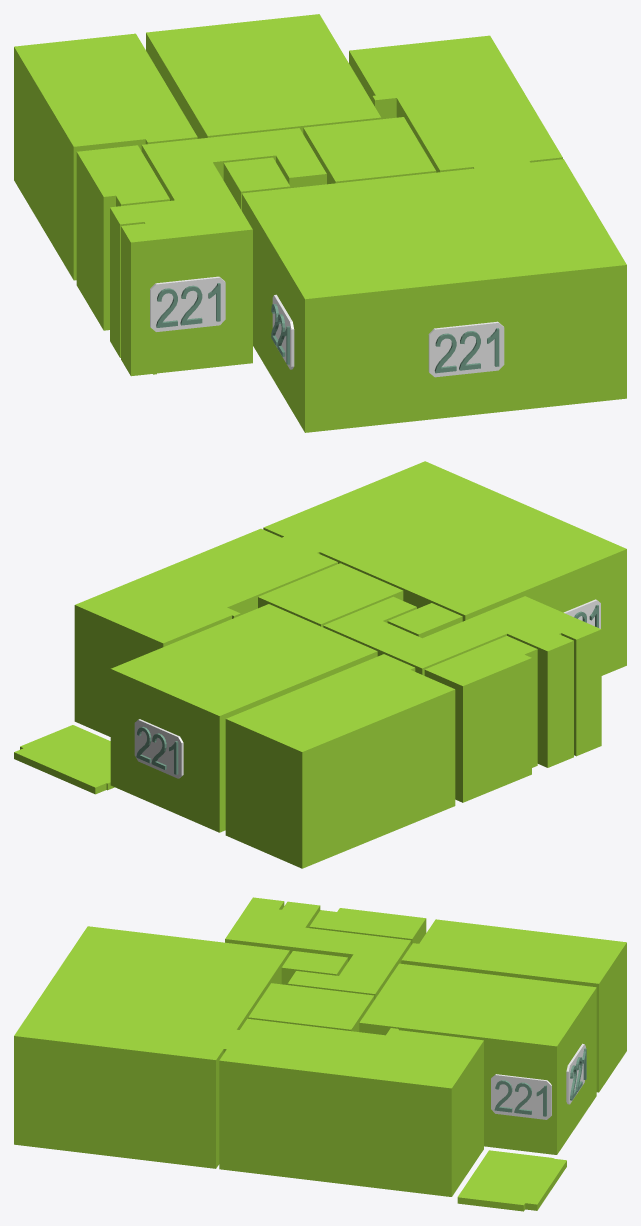
3 renders of one model, top to bottom at view 1: azimuth 30°, elevation 25°; view 2: azimuth 150°, elevation 25°; view 3: azimuth 270°, elevation 25°, orthographic. The views are drawn at different scales.
Visible parts, largest first — view 1: g_7, g_3, g_1, g_0, g_6, g_2, g_4, g_12, g_24, g_5, g_16; view 2: g_1, g_7, g_0, g_6, g_3, g_2, g_4, g_8, g_20, g_5; view 3: g_7, g_6, g_0, g_1, g_3, g_8, g_4, g_2, g_28, g_5, g_20.
Boxes of the visible parts, x1=… form: g_7: x1=242, y1=159, x2=626, y2=432; g_3: x1=110, y1=128, x2=326, y2=376; g_1: x1=14, y1=33, x2=197, y2=280; g_0: x1=146, y1=14, x2=381, y2=138; g_6: x1=349, y1=35, x2=562, y2=172; g_2: x1=76, y1=145, x2=169, y2=330; g_4: x1=303, y1=117, x2=436, y2=184; g_12: x1=428, y1=321, x2=504, y2=377; g_24: x1=150, y1=276, x2=225, y2=331; g_5: x1=223, y1=157, x2=290, y2=210; g_16: x1=272, y1=294, x2=294, y2=369; g_1: x1=225, y1=654, x2=455, y2=868; g_7: x1=263, y1=461, x2=626, y2=675; g_0: x1=110, y1=604, x2=377, y2=832; g_6: x1=74, y1=528, x2=337, y2=736; g_3: x1=323, y1=596, x2=601, y2=767; g_2: x1=424, y1=636, x2=537, y2=802; g_4: x1=258, y1=563, x2=403, y2=627; g_8: x1=14, y1=725, x2=114, y2=794; g_20: x1=134, y1=719, x2=183, y2=778; g_5: x1=387, y1=603, x2=462, y2=638; g_7: x1=14, y1=926, x2=289, y2=1168; g_6: x1=219, y1=1018, x2=483, y2=1196; g_0: x1=359, y1=963, x2=596, y2=1154; g_1: x1=401, y1=919, x2=626, y2=1092; g_3: x1=225, y1=897, x2=411, y2=999; g_8: x1=457, y1=1150, x2=566, y2=1211; g_4: x1=248, y1=983, x2=374, y2=1031; g_2: x1=309, y1=908, x2=426, y2=944; g_28: x1=491, y1=1074, x2=551, y2=1119; g_5: x1=281, y1=951, x2=347, y2=984; g_20: x1=566, y1=1043, x2=585, y2=1104.
Bounding box in the file's own units: 10.08 × 2.74 × 13.16.
